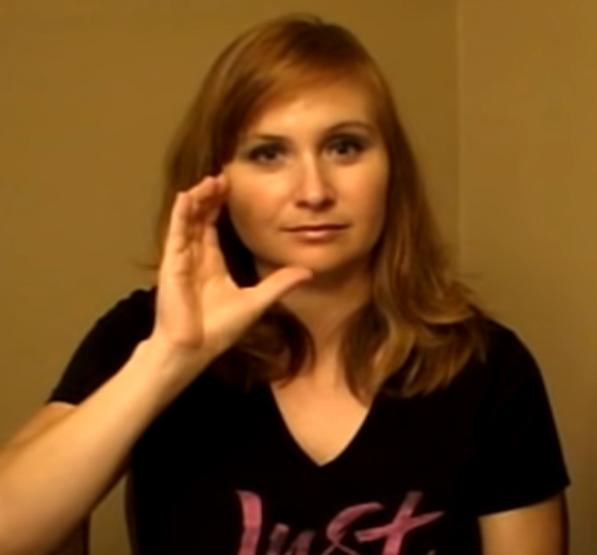drink: (137, 147, 317, 402)
